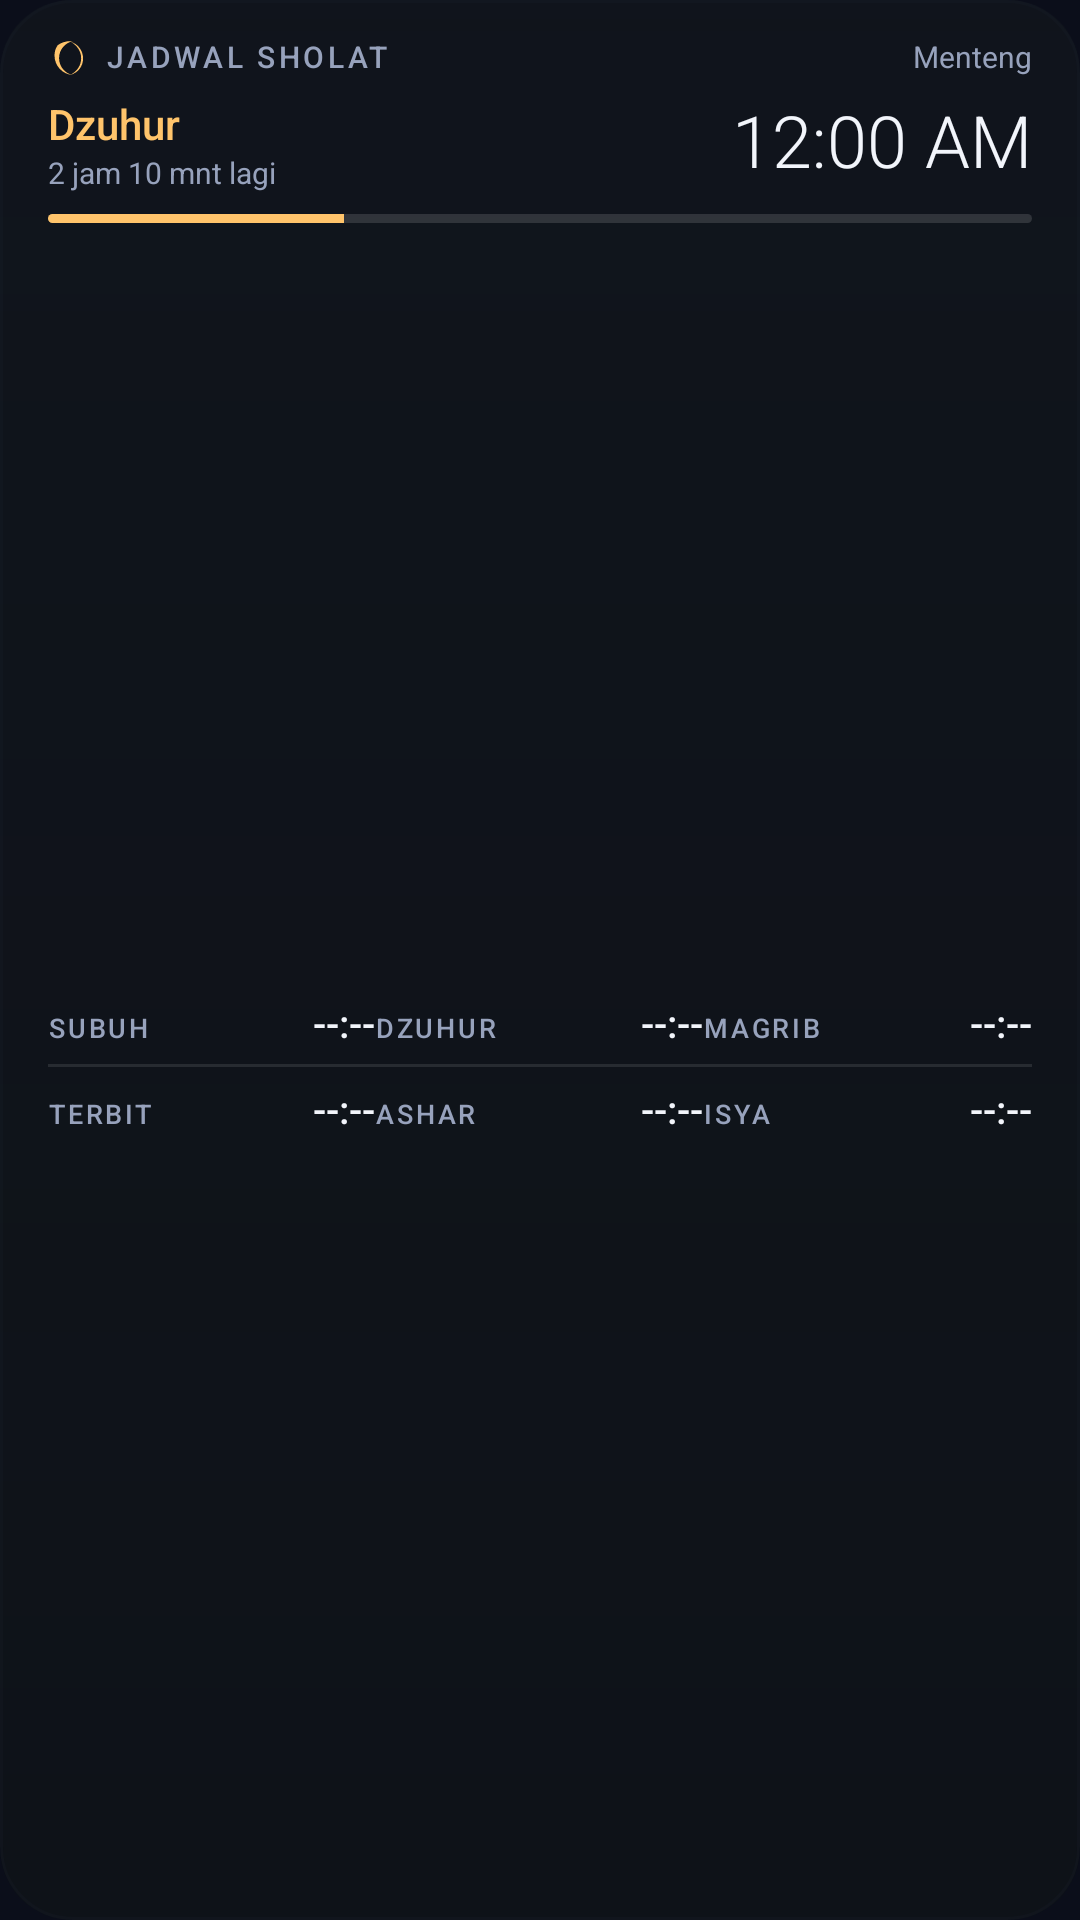

Icon bounding boxes for this 1080px×1920px phone screenshot, format [x1,y1,x2,y2]:
crescent: [54,41,83,75]
